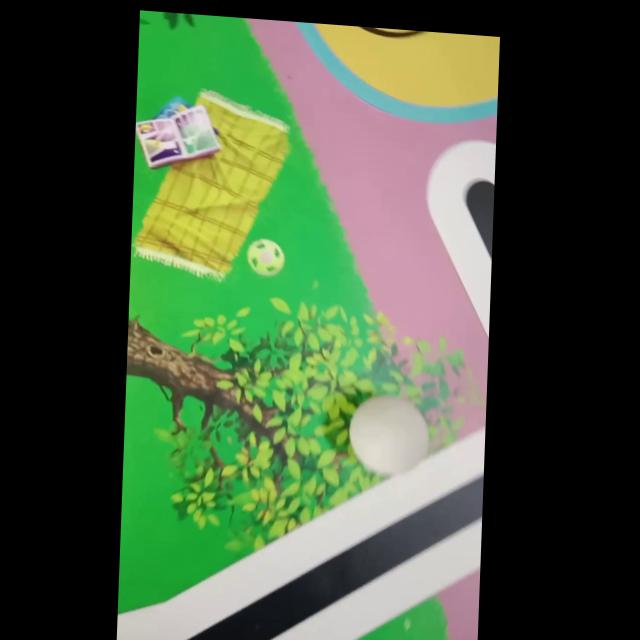white ball: (346, 392, 431, 480)
